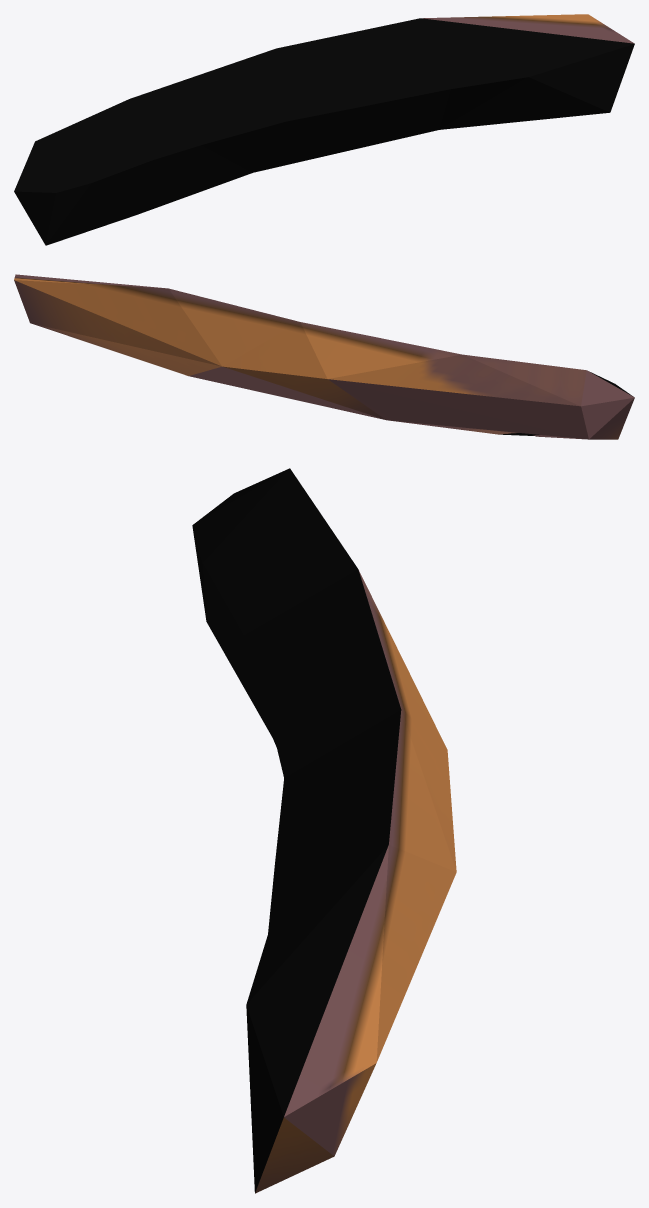
File: line_mouth.obj
3 renders of one model, top to bottom at view 1: azimuth 30°, elevation 25°; view 2: azimuth 150°, elevation 25°; view 3: azimuth 270°, elevation 25°, orthographic. The views are drawn at different scales.
Parts seen in each view (by area): view 1: mouth_line; view 2: mouth_line; view 3: mouth_line.
Boxes of the visible parts, <box> form: mouth_line: <box>14,14,634,245</box>; mouth_line: <box>14,274,634,439</box>; mouth_line: <box>192,468,456,1193</box>.
Size of the model in its own units: 0.4612 by 0.0754 by 0.087.
